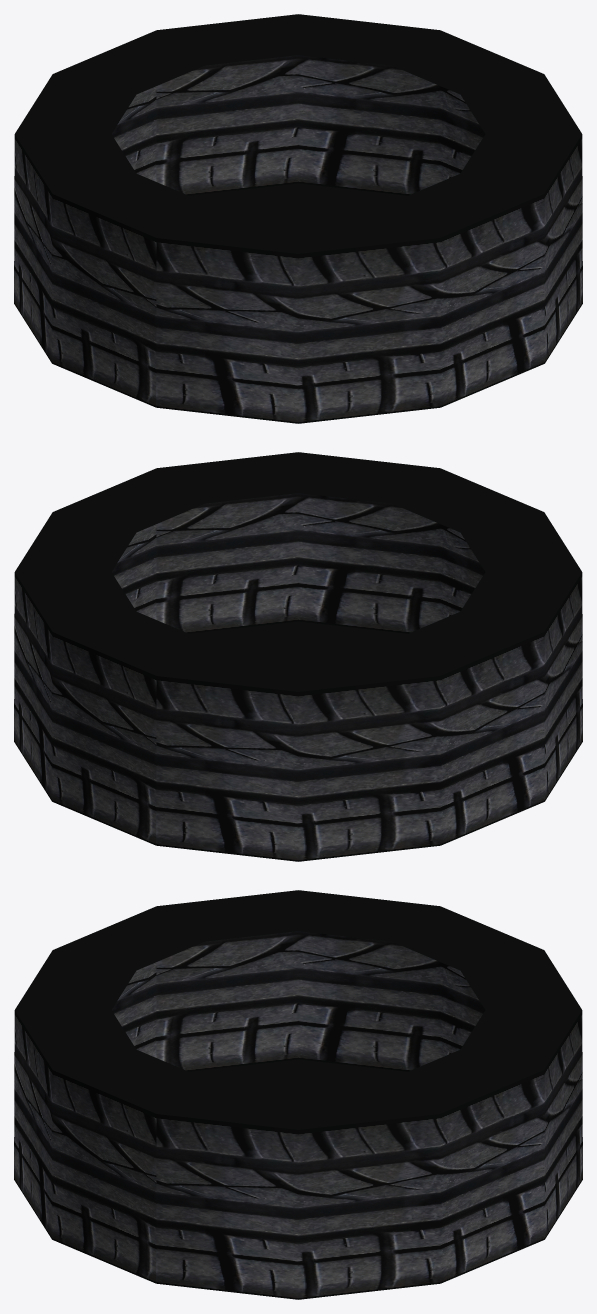
File: Copertone_2.fbx
3 renders of one model, top to bottom at view 1: azimuth 30°, elevation 25°; view 2: azimuth 150°, elevation 25°; view 3: azimuth 270°, elevation 25°, orthographic.
Visible parts, largest first — view 1: Object004; view 2: Object004; view 3: Object004.
Boxes of the visible parts, x1,y1,x2,y2 form: Object004: (14,14,582,423); Object004: (14,452,582,861); Object004: (14,890,582,1299).
Size of the model in its own units: 0.6085 by 0.2 by 0.6085.
1 material, 1 textured.
